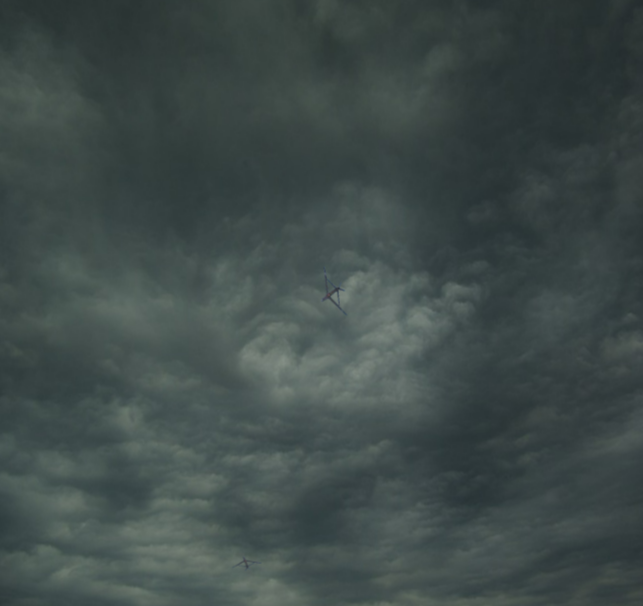military drone: (322, 265, 348, 316), (231, 555, 261, 570)
